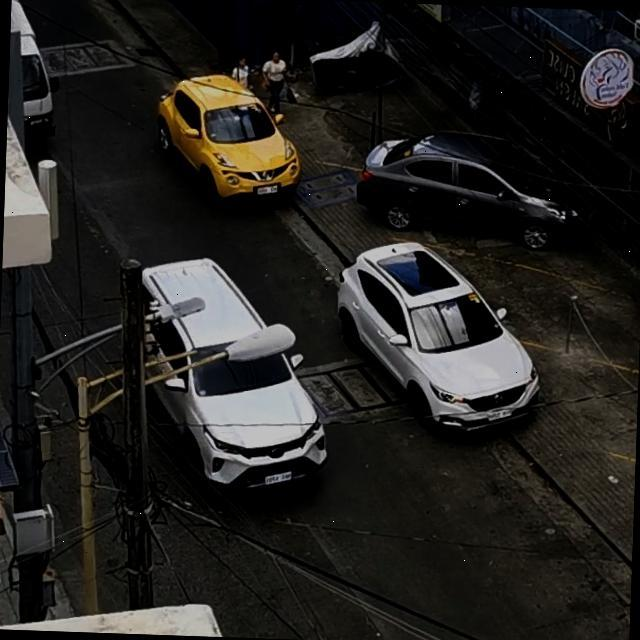Truck: (5, 0, 71, 169)
